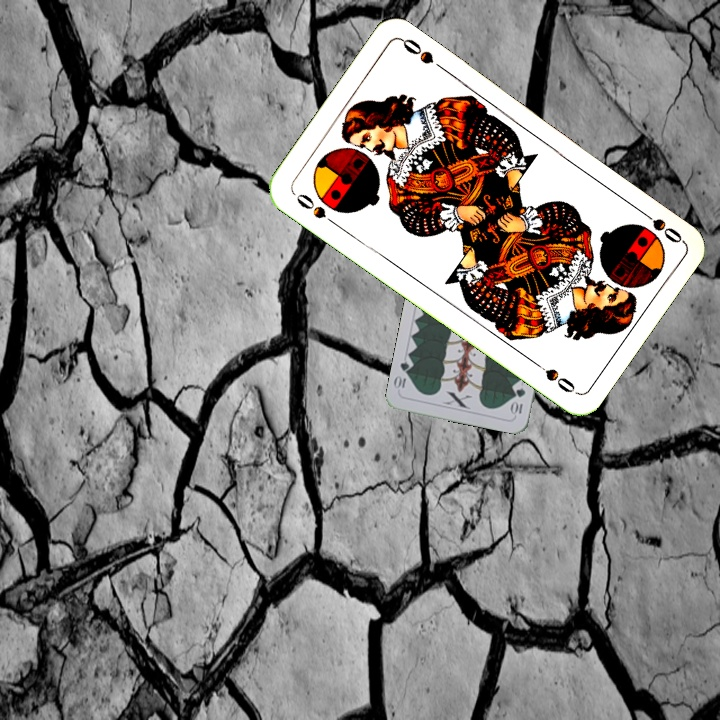G10: (508, 384, 528, 418)
SO: (633, 204, 685, 246), (289, 189, 340, 229)
